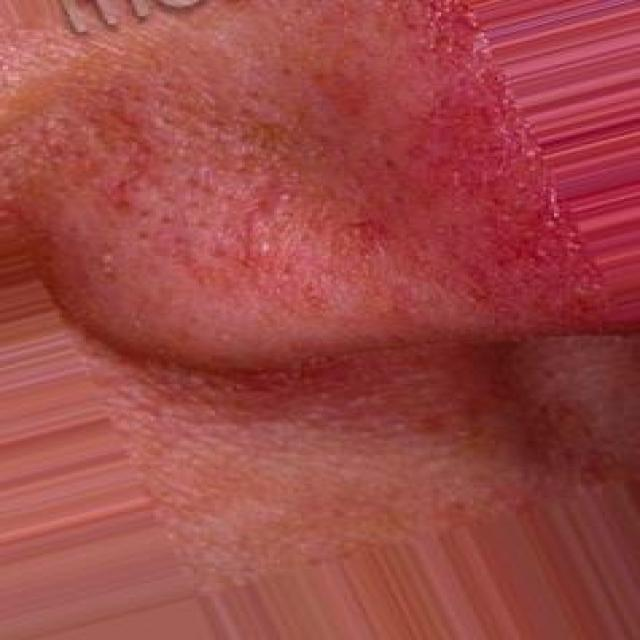Rosacea: (334, 1, 601, 328)
